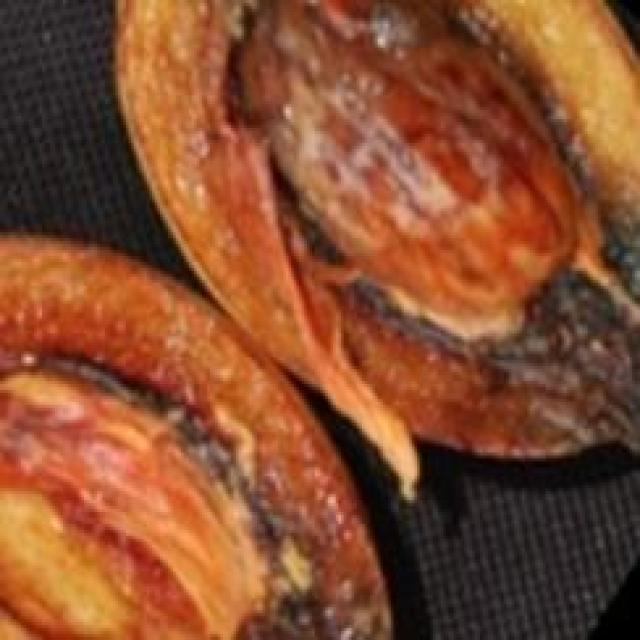damaged: (113, 0, 637, 503), (0, 235, 393, 637)
